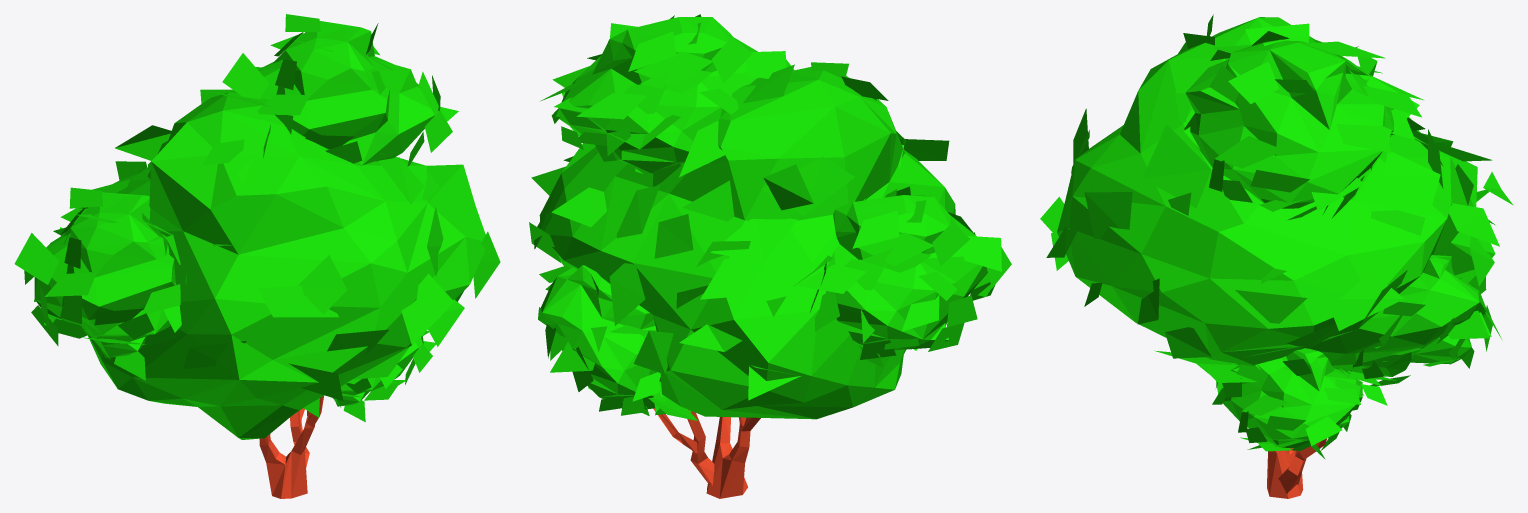
File: SM_Tree_Chinese_Elm_B.fbx
The picture shows the model from 3 angles, left to right: view 1: azimuth 30°, elevation 25°; view 2: azimuth 150°, elevation 25°; view 3: azimuth 270°, elevation 25°; orthographic projection. The views are drawn at different scales.
Visible parts, largest first — view 1: SM_Tree_Chinese_Elm_B; view 2: SM_Tree_Chinese_Elm_B; view 3: SM_Tree_Chinese_Elm_B.
Part boxes in pixels (x1,y1,x2,y2): SM_Tree_Chinese_Elm_B: (14,14,500,498); SM_Tree_Chinese_Elm_B: (529,14,1011,498); SM_Tree_Chinese_Elm_B: (1040,14,1513,498).
Size of the model in its own units: 4.34 by 4.15 by 3.8.
